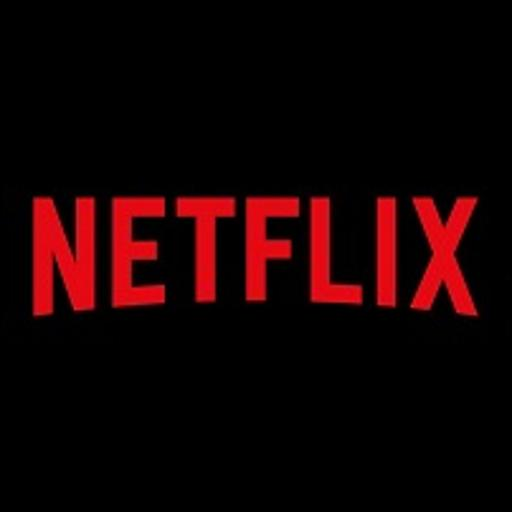Netflix: (0, 169, 512, 343)
